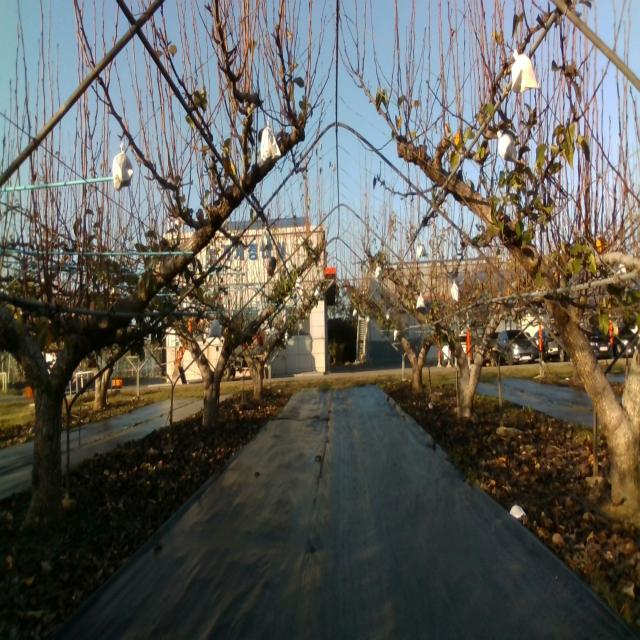pearbags: (511, 48, 539, 95), (113, 140, 133, 190), (260, 125, 280, 167), (495, 130, 519, 164), (208, 318, 221, 338), (261, 230, 272, 251)
